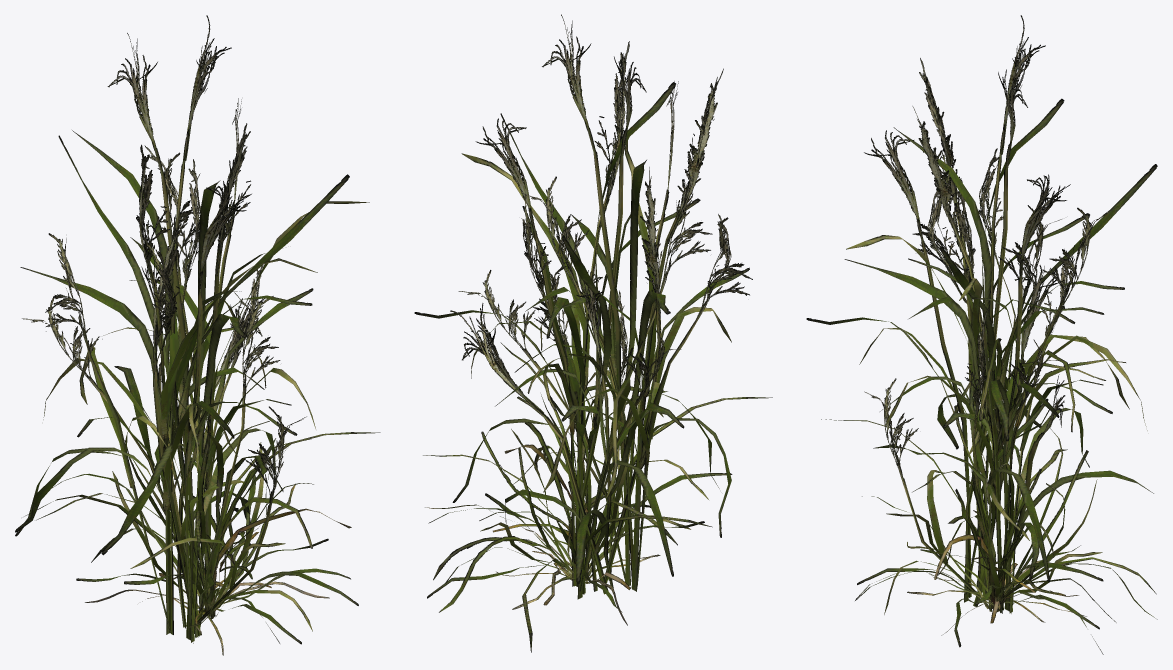
The model's file is tuft-packed.glb.
The picture shows the model from 3 angles, left to right: view 1: azimuth 30°, elevation 25°; view 2: azimuth 150°, elevation 25°; view 3: azimuth 270°, elevation 25°; orthographic projection. The views are drawn at different scales.
Parts seen in each view (by area): view 1: fine-grass-clump; view 2: fine-grass-clump; view 3: fine-grass-clump.
Boxes of the visible parts, x1=… form: fine-grass-clump: x1=15, y1=15, x2=380, y2=655; fine-grass-clump: x1=414, y1=14, x2=772, y2=652; fine-grass-clump: x1=806, y1=15, x2=1157, y2=654.
Bounding box in the file's own units: 0.3195 × 0.5809 × 0.3242.
1 material, 1 textured.
